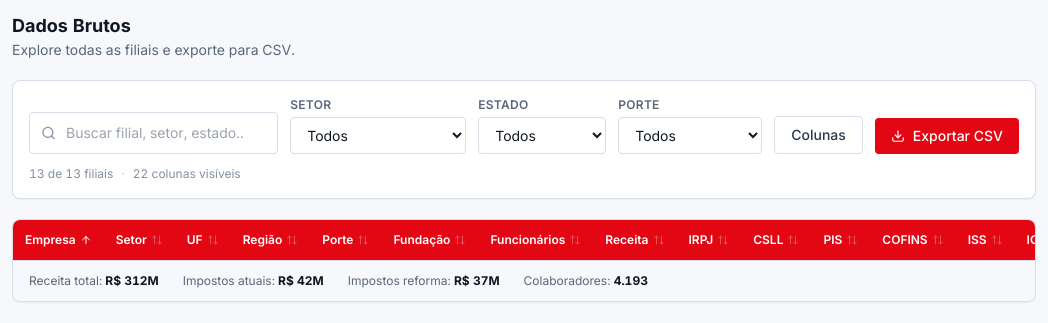
Scenario: RawDataPage › filters by size
Select "Pequena" in the 3rd dropdown: (690, 136) left=618, top=117, right=762, bottom=154
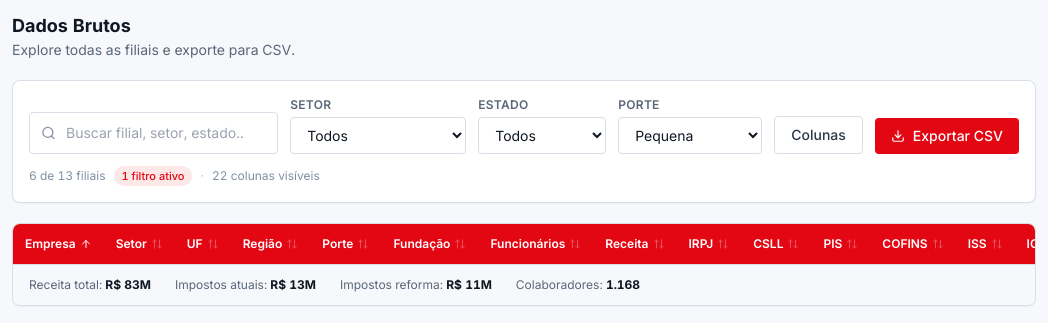
Expected: the text "1 filtro ativo" is shown, left=114, top=166, right=192, bottom=186
